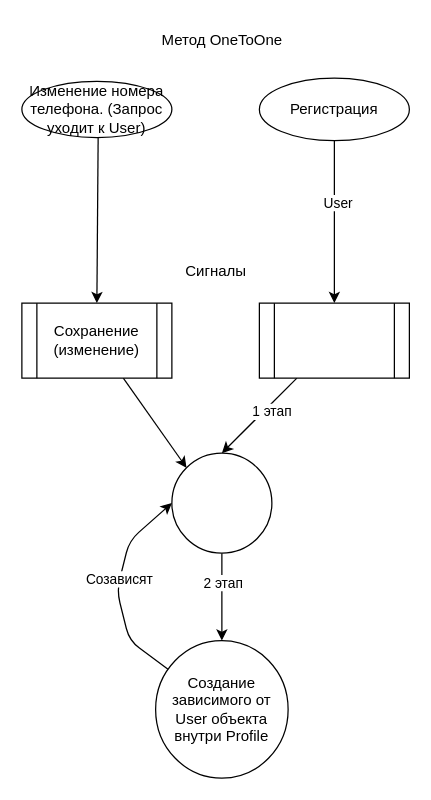
Image size: 431x800. Some labels were removed from this diagram. Each missing label, with the centre of its shape:
Создание: (333,340)
Создание User объекта в таблице: (221,502)
